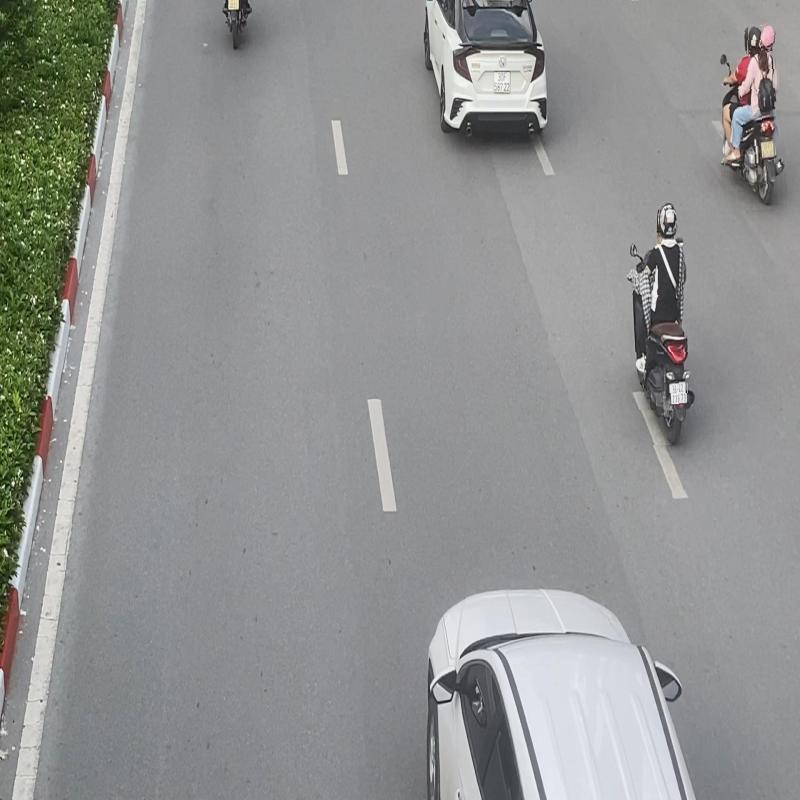helmet: (658, 203, 678, 237), (748, 25, 762, 54), (760, 26, 776, 51)
licenseplate: (670, 381, 688, 404), (760, 140, 775, 160)
motorcyclist: (626, 201, 696, 446), (720, 23, 786, 210)
